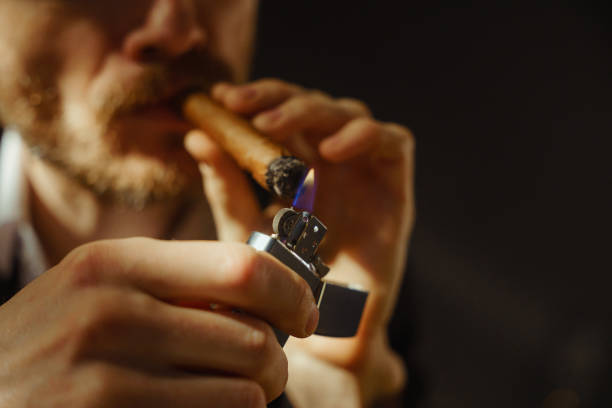cigarette: (182, 94, 307, 203)
